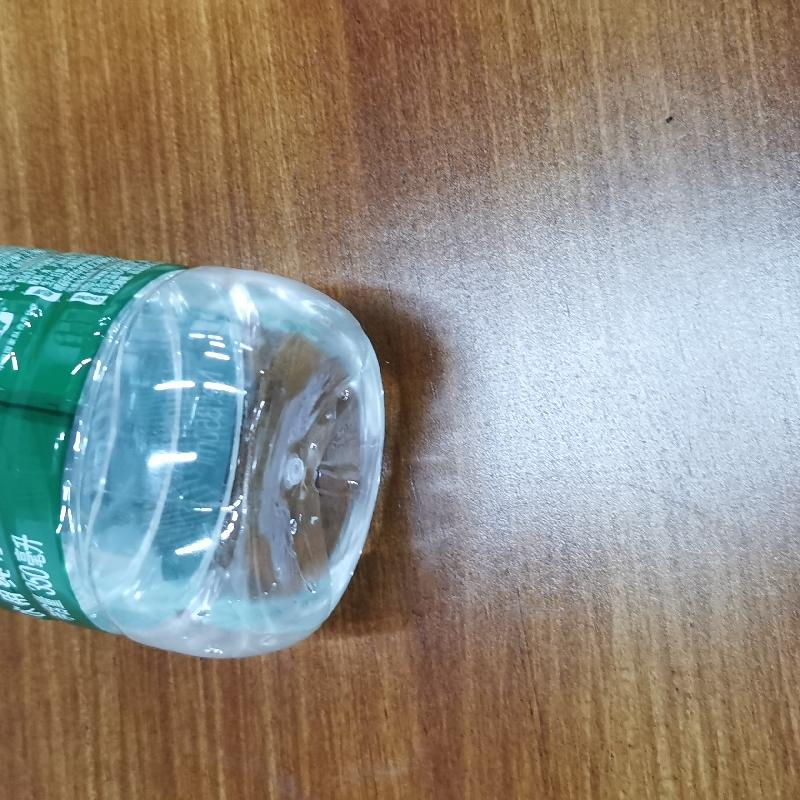bottles: (0, 237, 388, 663)
